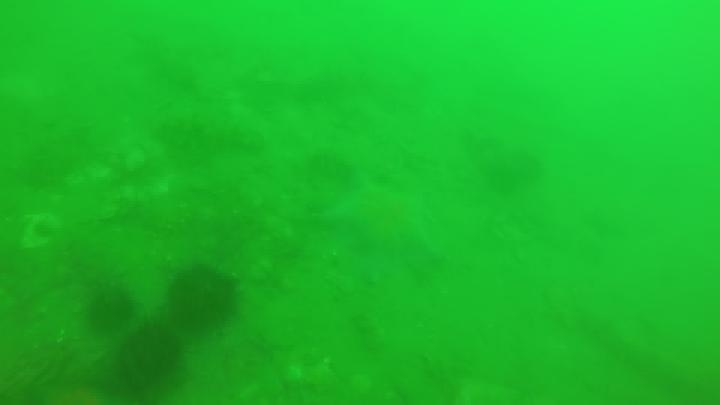echinus: (164, 263, 240, 334), (112, 322, 186, 392), (83, 285, 137, 336), (485, 148, 544, 193)
holothurian: (577, 305, 712, 398), (154, 112, 264, 157)
starfish: (318, 174, 445, 271)
